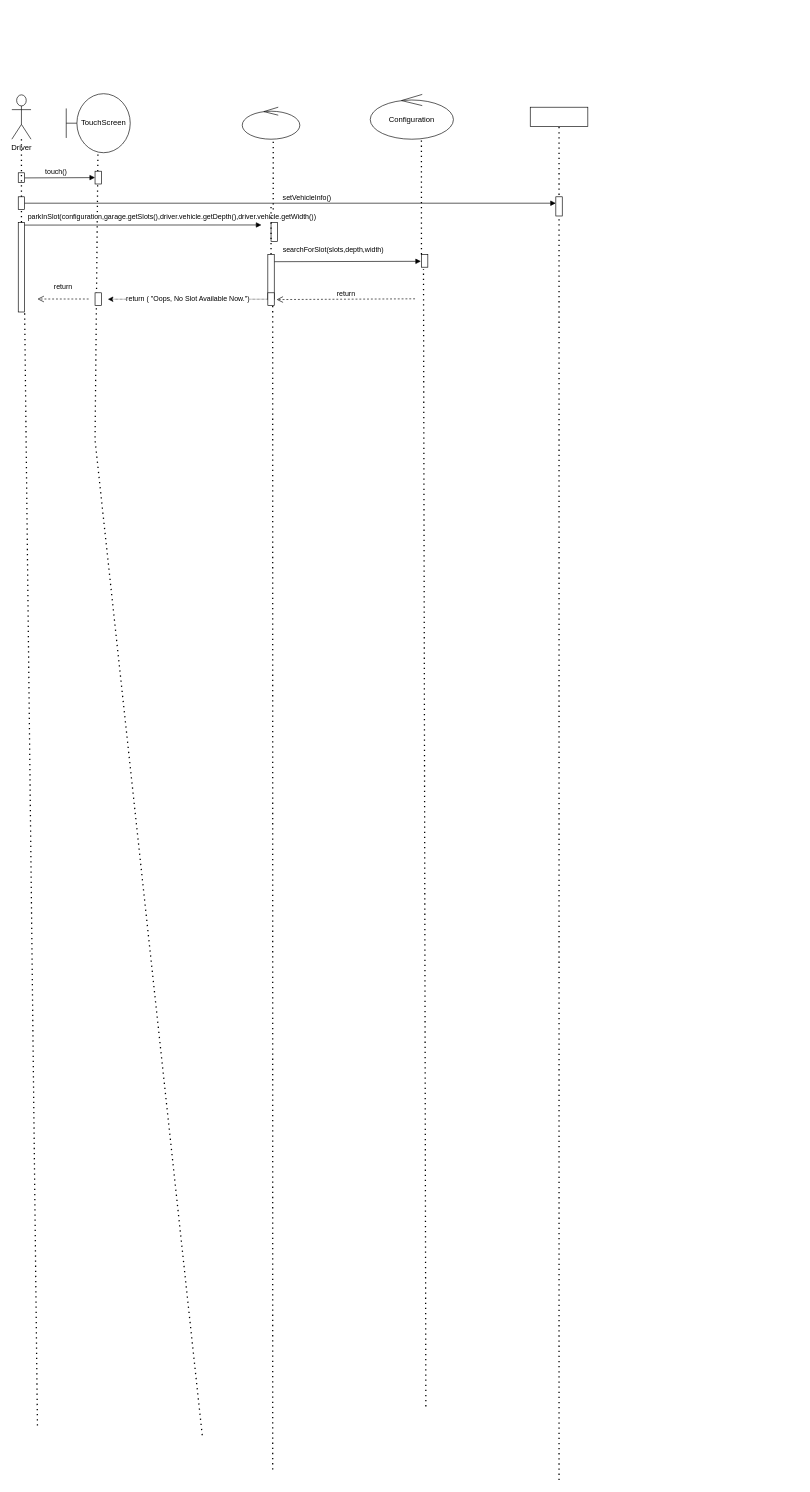
Image size: 810x1492. Some labels were removed from this diagram. The shapes that lost their labels are listed below. From the top down, each one's centre as x and y in pixels, then its label:
At pixel 271 123: "ParkIn".
At pixel 559 116: ":Vehicle".
